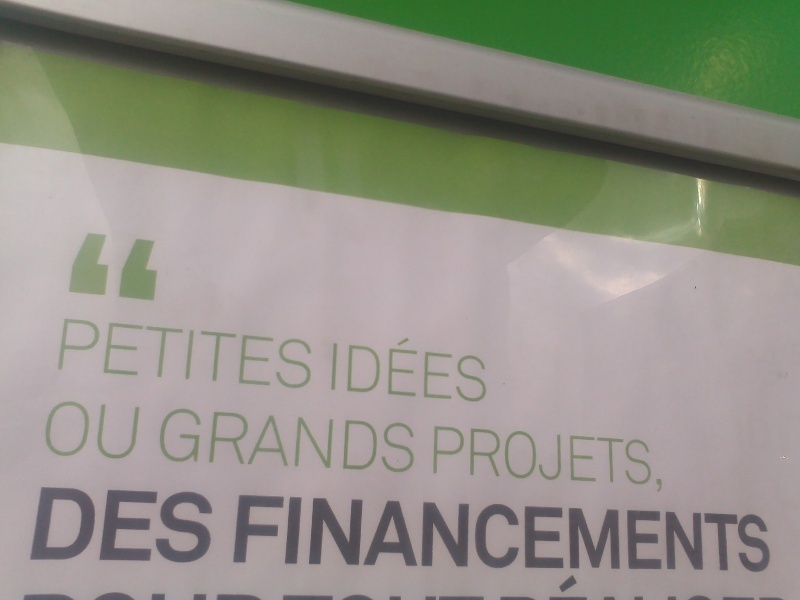text: (241, 490, 256, 576), (257, 490, 272, 576), (273, 490, 288, 576), (289, 490, 304, 576), (305, 490, 320, 576), (321, 490, 336, 576), (337, 490, 352, 576), (353, 490, 368, 576), (369, 490, 384, 576), (385, 490, 400, 576), (401, 490, 416, 576), (417, 490, 432, 576), (433, 490, 448, 576), (449, 490, 464, 576), (465, 490, 480, 576), (481, 490, 496, 576), (497, 490, 512, 576), (513, 490, 528, 576), (529, 490, 544, 576), (545, 490, 560, 576), (561, 490, 576, 576), (577, 490, 592, 576), (593, 490, 608, 576), (609, 490, 624, 576), (625, 490, 640, 576), (641, 490, 656, 576), (657, 490, 672, 576), (673, 490, 688, 576), (689, 490, 704, 576), (705, 490, 720, 576), (721, 490, 736, 576), (737, 490, 752, 576), (753, 490, 768, 576), (49, 486, 64, 564), (65, 486, 80, 564), (81, 486, 96, 564), (97, 486, 112, 564), (113, 486, 128, 564), (129, 486, 144, 564), (145, 486, 160, 564), (161, 486, 176, 564), (177, 486, 192, 564), (193, 486, 208, 564), (65, 317, 80, 390), (81, 317, 96, 390), (97, 317, 112, 390), (113, 317, 128, 390), (129, 317, 144, 390), (145, 317, 160, 390), (161, 317, 176, 390), (177, 317, 192, 390), (193, 317, 208, 390), (209, 317, 224, 390), (225, 317, 240, 390), (241, 317, 256, 390), (257, 317, 272, 390), (273, 317, 288, 390), (289, 317, 304, 390), (337, 331, 352, 404), (353, 331, 368, 404), (369, 331, 384, 404), (385, 331, 400, 404), (401, 331, 416, 404), (417, 331, 432, 404), (433, 331, 448, 404), (449, 331, 464, 404), (465, 331, 480, 404), (81, 231, 96, 302), (97, 231, 112, 302), (113, 231, 128, 302), (129, 231, 144, 302), (145, 231, 160, 302), (161, 407, 176, 475), (177, 407, 192, 475), (193, 407, 208, 475), (209, 407, 224, 475), (225, 407, 240, 475), (241, 407, 256, 475), (257, 407, 272, 475), (273, 407, 288, 475), (289, 407, 304, 475), (305, 407, 320, 475), (321, 407, 336, 475), (337, 407, 352, 475), (353, 407, 368, 475), (369, 407, 384, 475), (385, 407, 400, 475), (433, 424, 448, 492), (449, 424, 464, 492), (465, 424, 480, 492), (481, 424, 496, 492), (497, 424, 512, 492), (513, 424, 528, 492), (529, 424, 544, 492), (545, 424, 560, 492), (561, 424, 576, 492), (577, 424, 592, 492), (593, 424, 608, 492), (609, 424, 624, 492), (625, 424, 640, 492), (641, 424, 656, 492), (401, 407, 415, 475), (65, 400, 80, 462), (81, 400, 96, 462), (97, 400, 112, 462), (113, 400, 128, 462), (50, 400, 64, 462), (209, 486, 220, 564), (305, 317, 316, 390), (129, 400, 141, 462), (41, 486, 48, 564), (657, 424, 665, 492), (481, 331, 488, 404), (561, 575, 577, 593), (769, 490, 772, 576), (77, 231, 80, 302), (161, 231, 164, 302), (334, 331, 336, 404), (239, 490, 240, 576), (559, 575, 560, 593)
